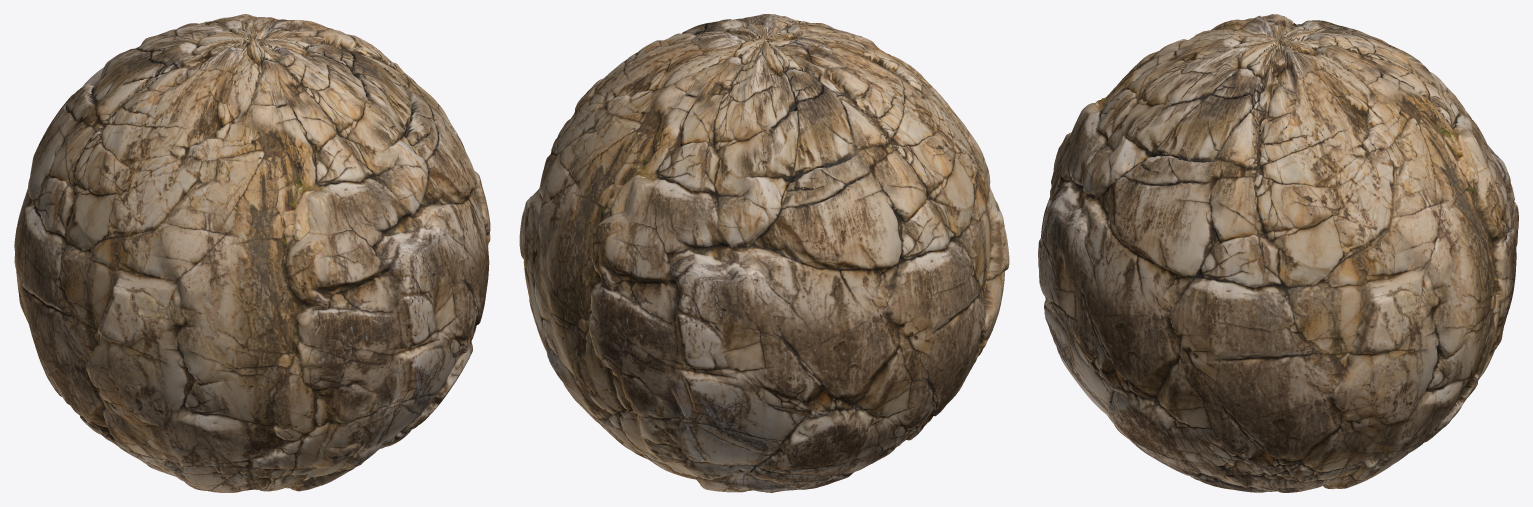
The model's file is marble_cliff_06_4k.gltf.
3 renders of one model, left to right at view 1: azimuth 30°, elevation 25°; view 2: azimuth 150°, elevation 25°; view 3: azimuth 270°, elevation 25°, orthographic.
Parts seen in each view (by area): view 1: sphere_gltf; view 2: sphere_gltf; view 3: sphere_gltf.
Boxes of the visible parts, x1,y1,x2,y2 form: sphere_gltf: (14, 14, 490, 492); sphere_gltf: (519, 14, 1009, 492); sphere_gltf: (1038, 14, 1518, 492).
Bounding box in the file's own units: 8.19 × 8.29 × 8.27.
1 material, 1 textured.
